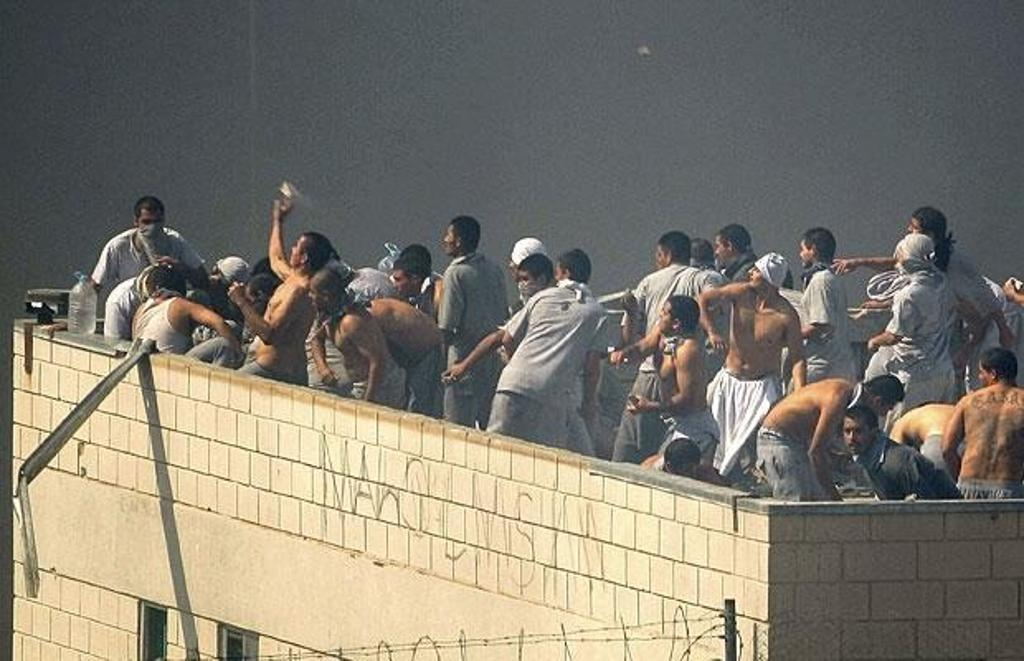face: (846, 420, 869, 452), (142, 212, 164, 241), (395, 269, 415, 299), (309, 282, 330, 310), (519, 271, 541, 296), (660, 305, 680, 332), (291, 238, 309, 265), (446, 225, 462, 255), (873, 397, 897, 417), (980, 361, 995, 391), (750, 259, 766, 287), (716, 237, 733, 263), (800, 241, 816, 268), (908, 217, 923, 244), (659, 247, 674, 271), (678, 462, 693, 478), (556, 264, 567, 285)
